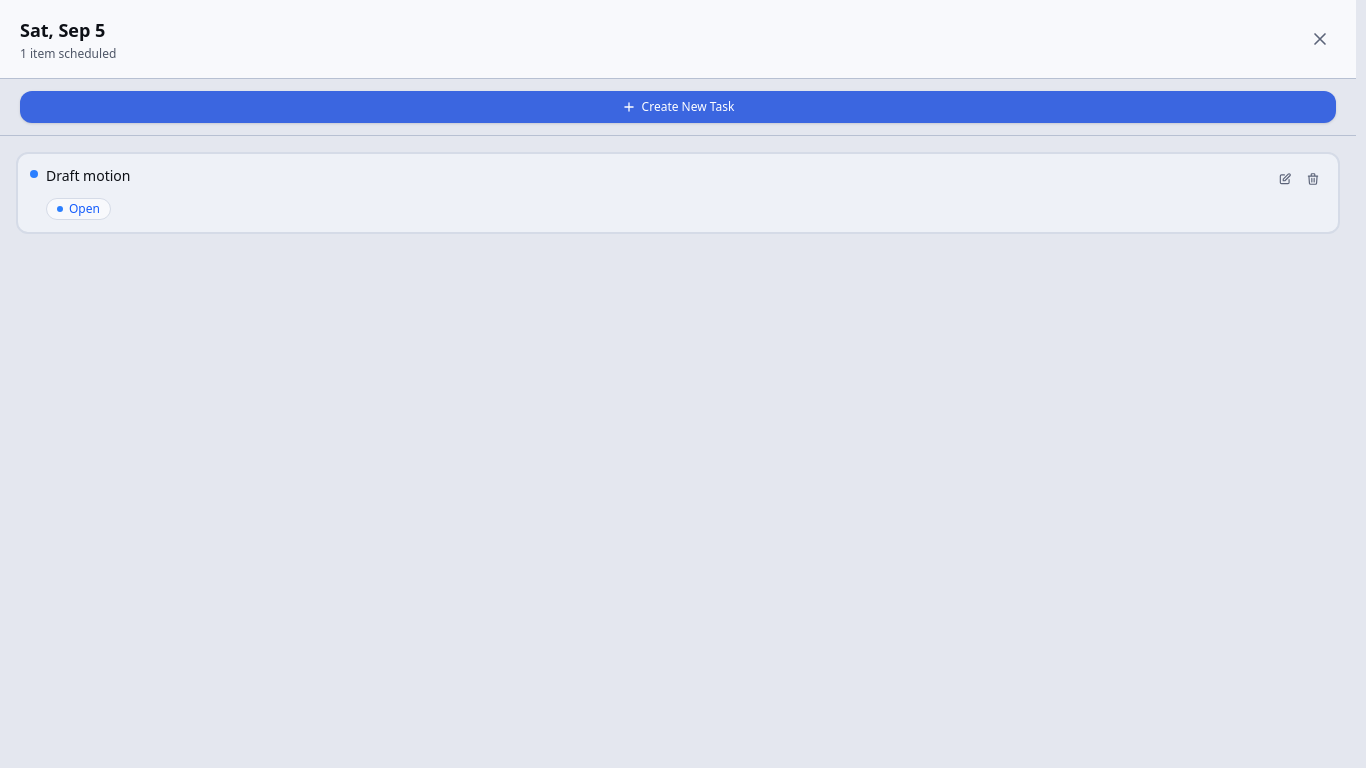
task completion toggle › sends the flipped status and closes the popup
The image size is (1366, 768).
Click the heading "Draft motion".
click(88, 176)  # box x1=46 y1=166 x2=130 y2=186
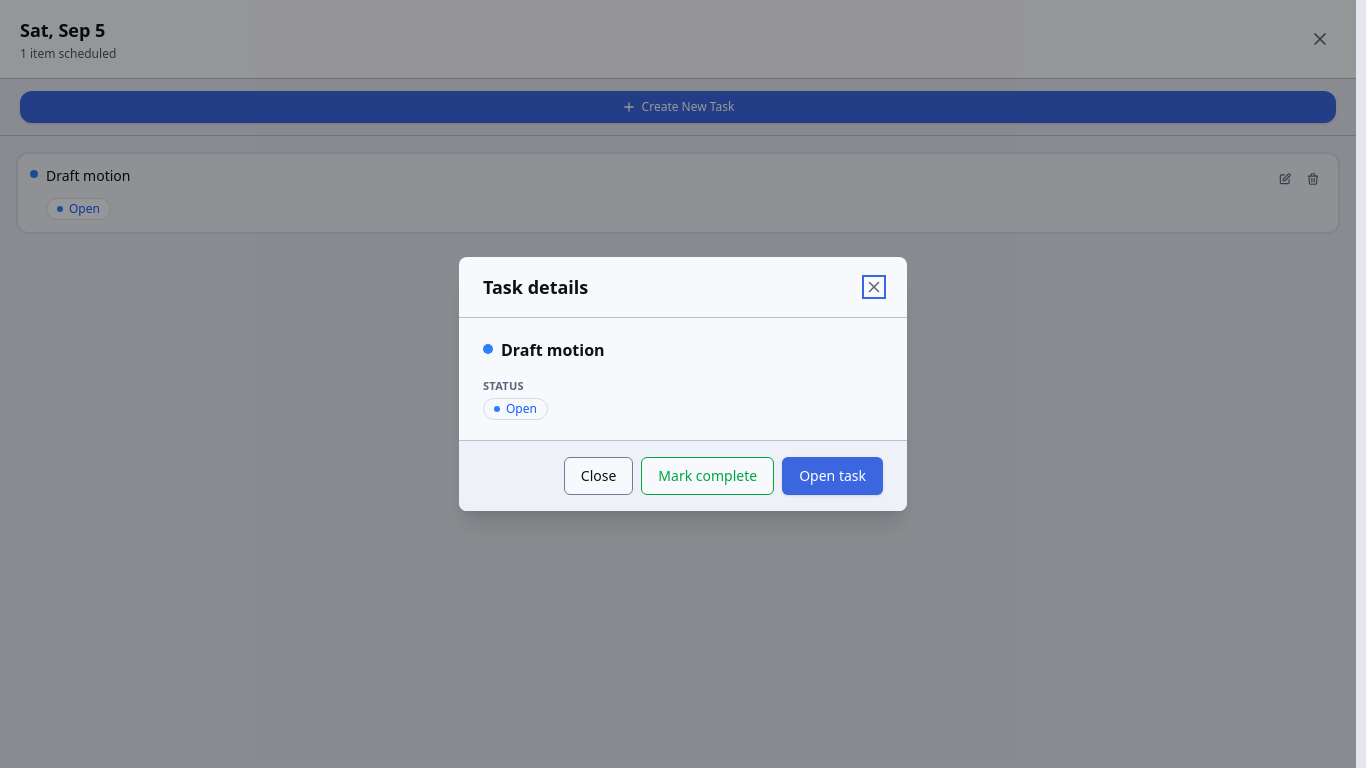
Click the button "Mark complete".
click(708, 476)  # box x1=641 y1=457 x2=774 y2=495
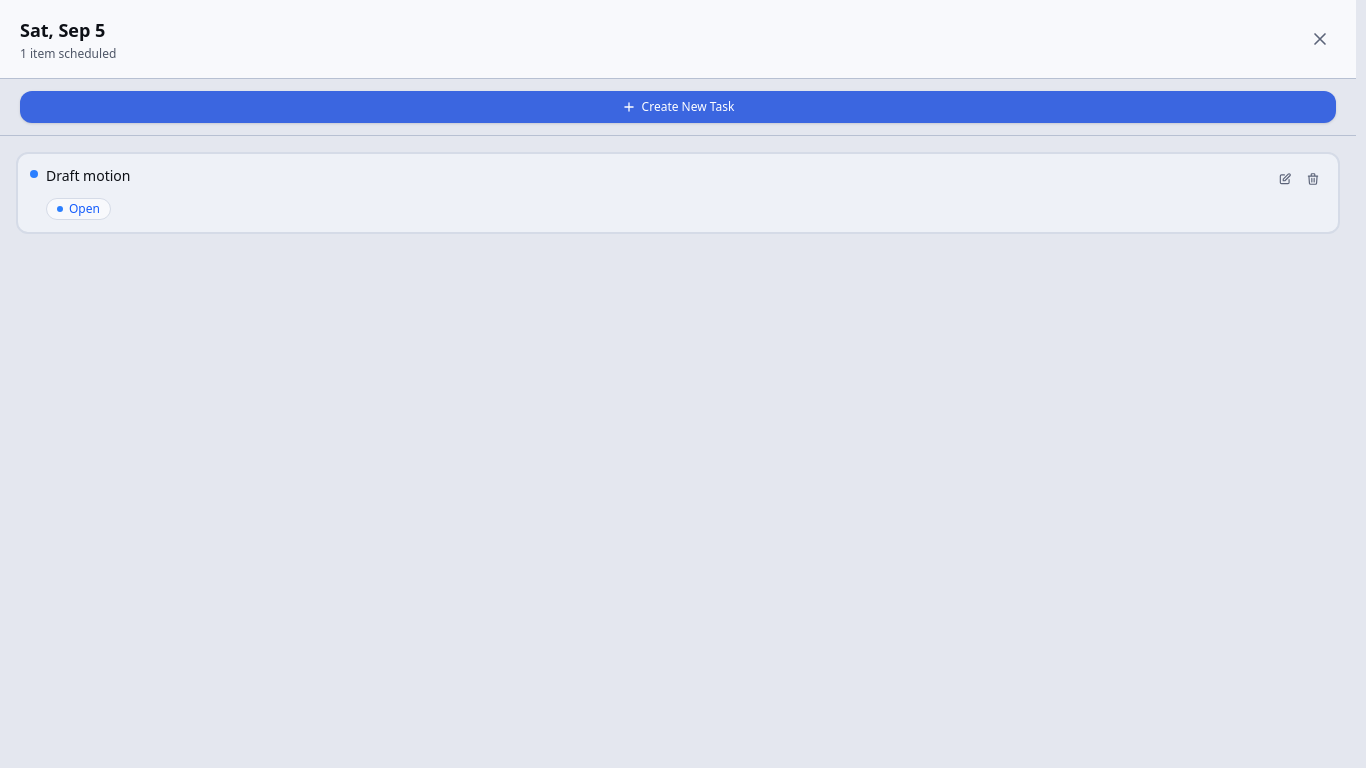
Expected: the heading "Task details" is gone
